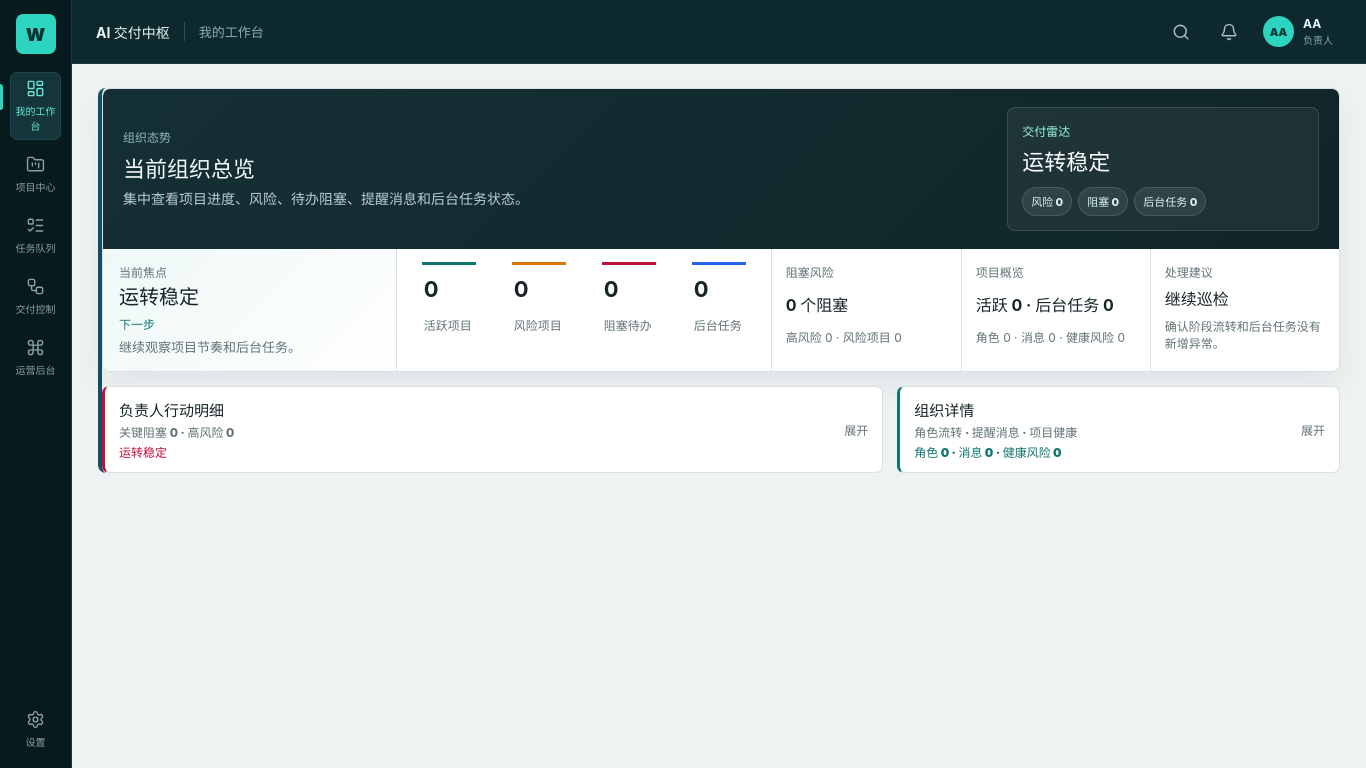
Test case: App › opens the searchable project center and creates projects on demand
Click the button "项目中心".
click(36, 174)  # box [10, 148, 61, 201]
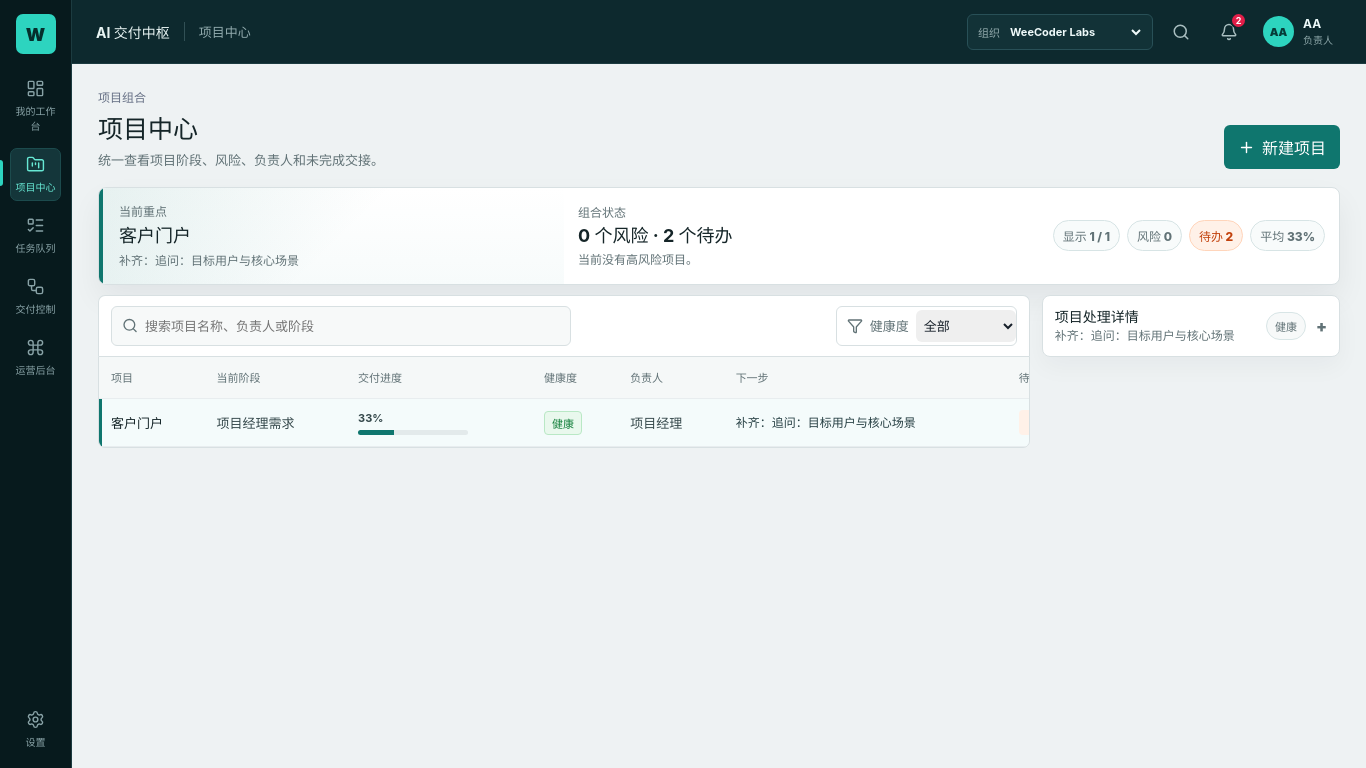
Now the element labelled "项目中心" is shown, box [98, 88, 1340, 448]
Now the text "当前重点" is shown, box [119, 204, 167, 219]
Now the text "客户门户" below "当前重点" is shown, box [119, 225, 191, 246]
Click the text "项目处理详情".
click(1097, 316)  # box [1055, 308, 1139, 325]
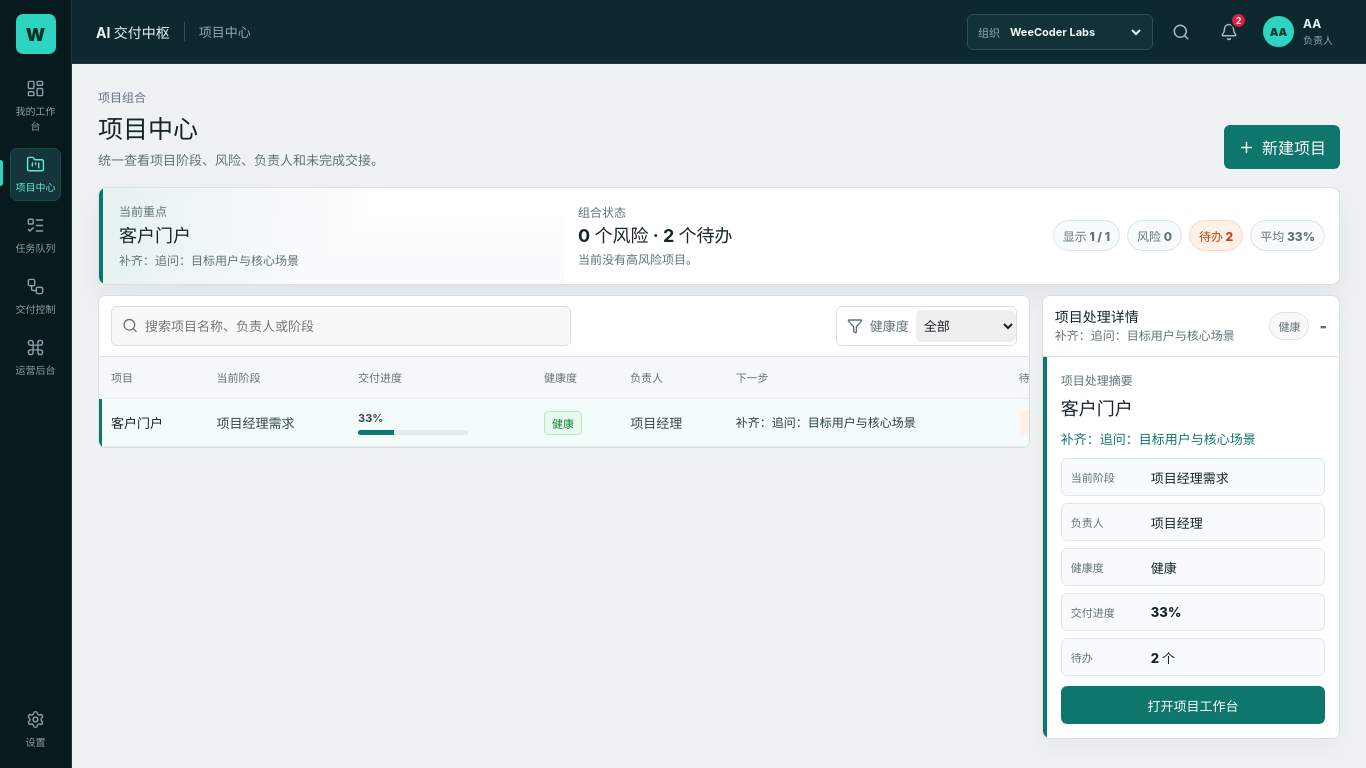
Now the text "项目处理摘要" is shown, box [1061, 373, 1133, 388]
Now the text "当前阶段" is shown, box [1071, 471, 1115, 485]
Now the text "项目经理需求" is shown, box [1151, 470, 1229, 486]
Click the button "新建项目".
click(1282, 147)  # box [1224, 125, 1340, 169]
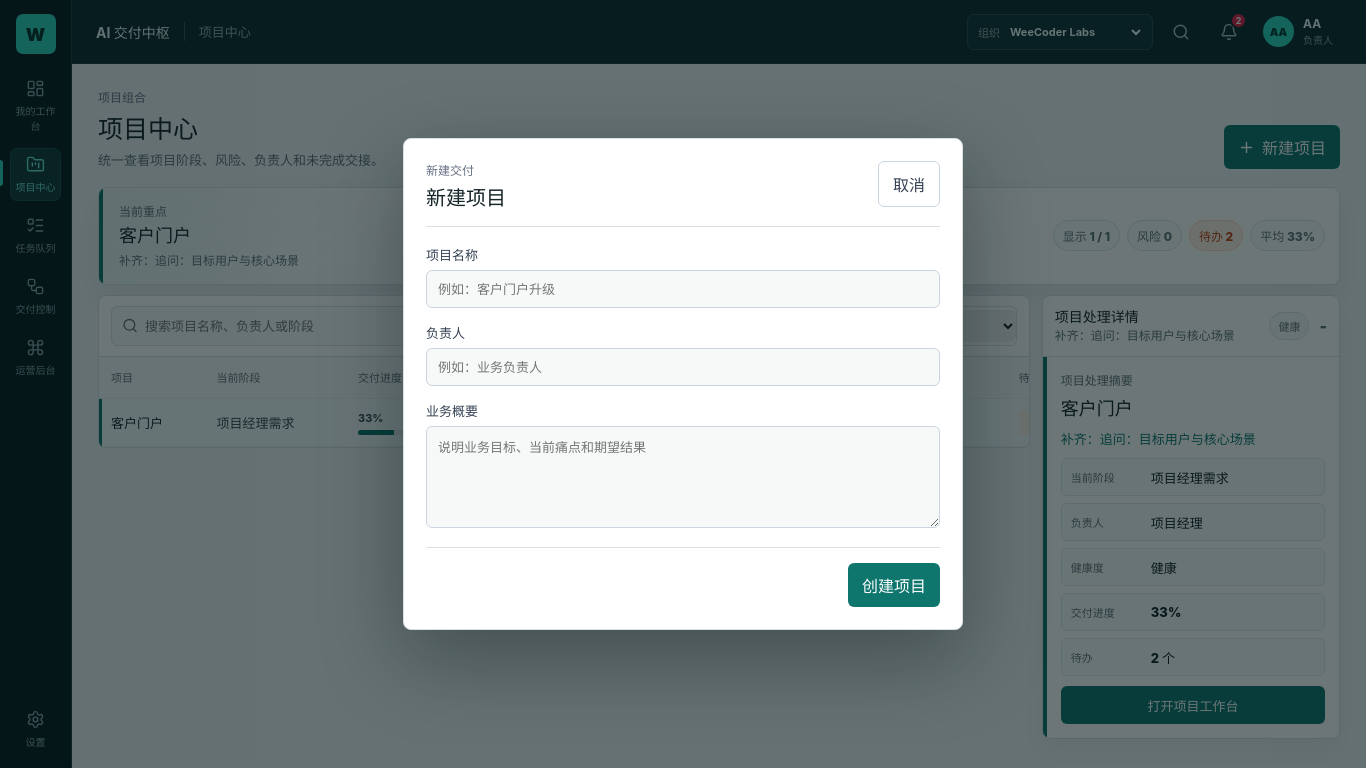
Now the dialog "新建项目" is shown, box [403, 138, 963, 630]
